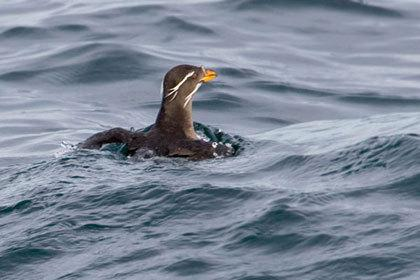008.Rhinoceros_Auklet: (72, 64, 234, 165)
